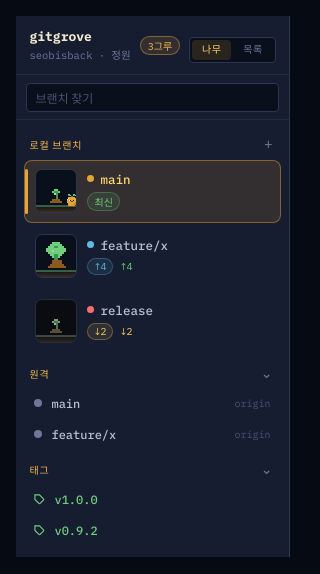
Test case: BranchSidebar — 보기 토글 (나무/목록) › 목록 토글 클릭 시 리스트로 전환하고 gitgrove:branchView=list를 저장한다
The image size is (320, 574).
Click the button with aria-label "목록 보기" at (253, 50), box [233,40,272,60]
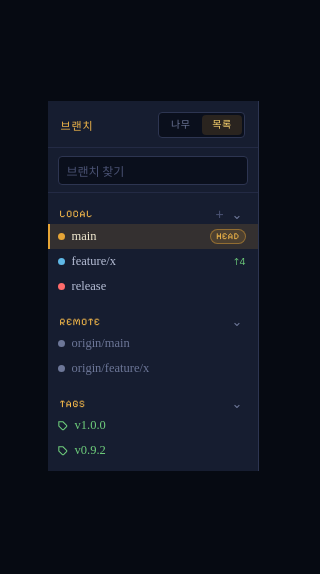
expect the element with class "bitem" showing "main HEAD" is shown: met, box [48,224,258,249]
